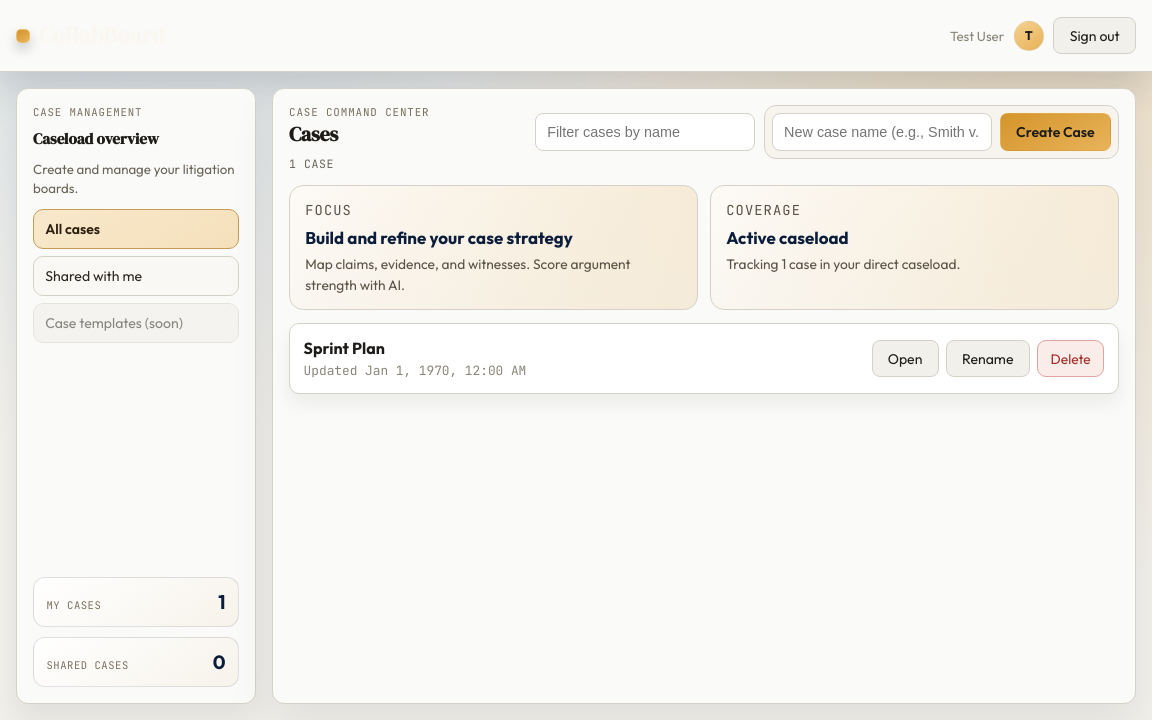
Test: Dashboard › shows no-match empty state in owned cases when search has no results
The image size is (1152, 720).
Type "xyz" into the field with placeholder "Filter cases by name" at (645, 132), box x1=535 y1=113 x2=755 y2=151
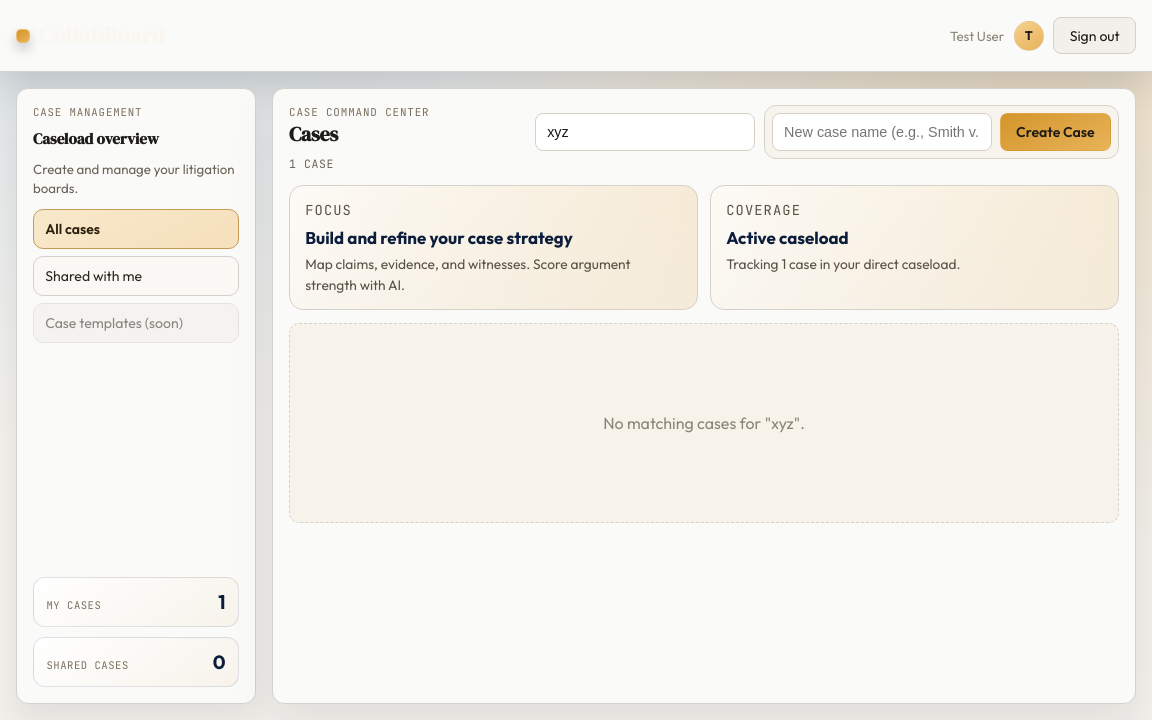
Expected: the text "No matching cases for \"xyz\"." is shown, x1=289 y1=324 x2=1119 y2=524
